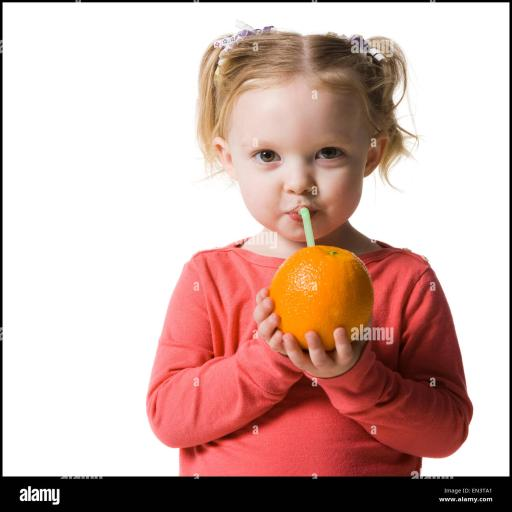orange: (270, 246, 373, 351)
